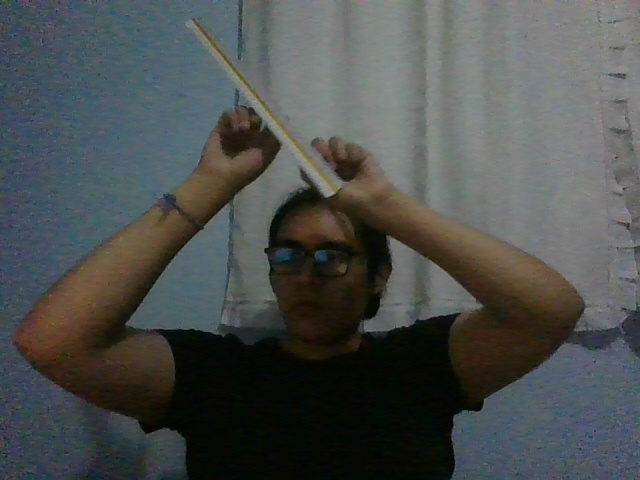regla: (182, 15, 345, 199)
